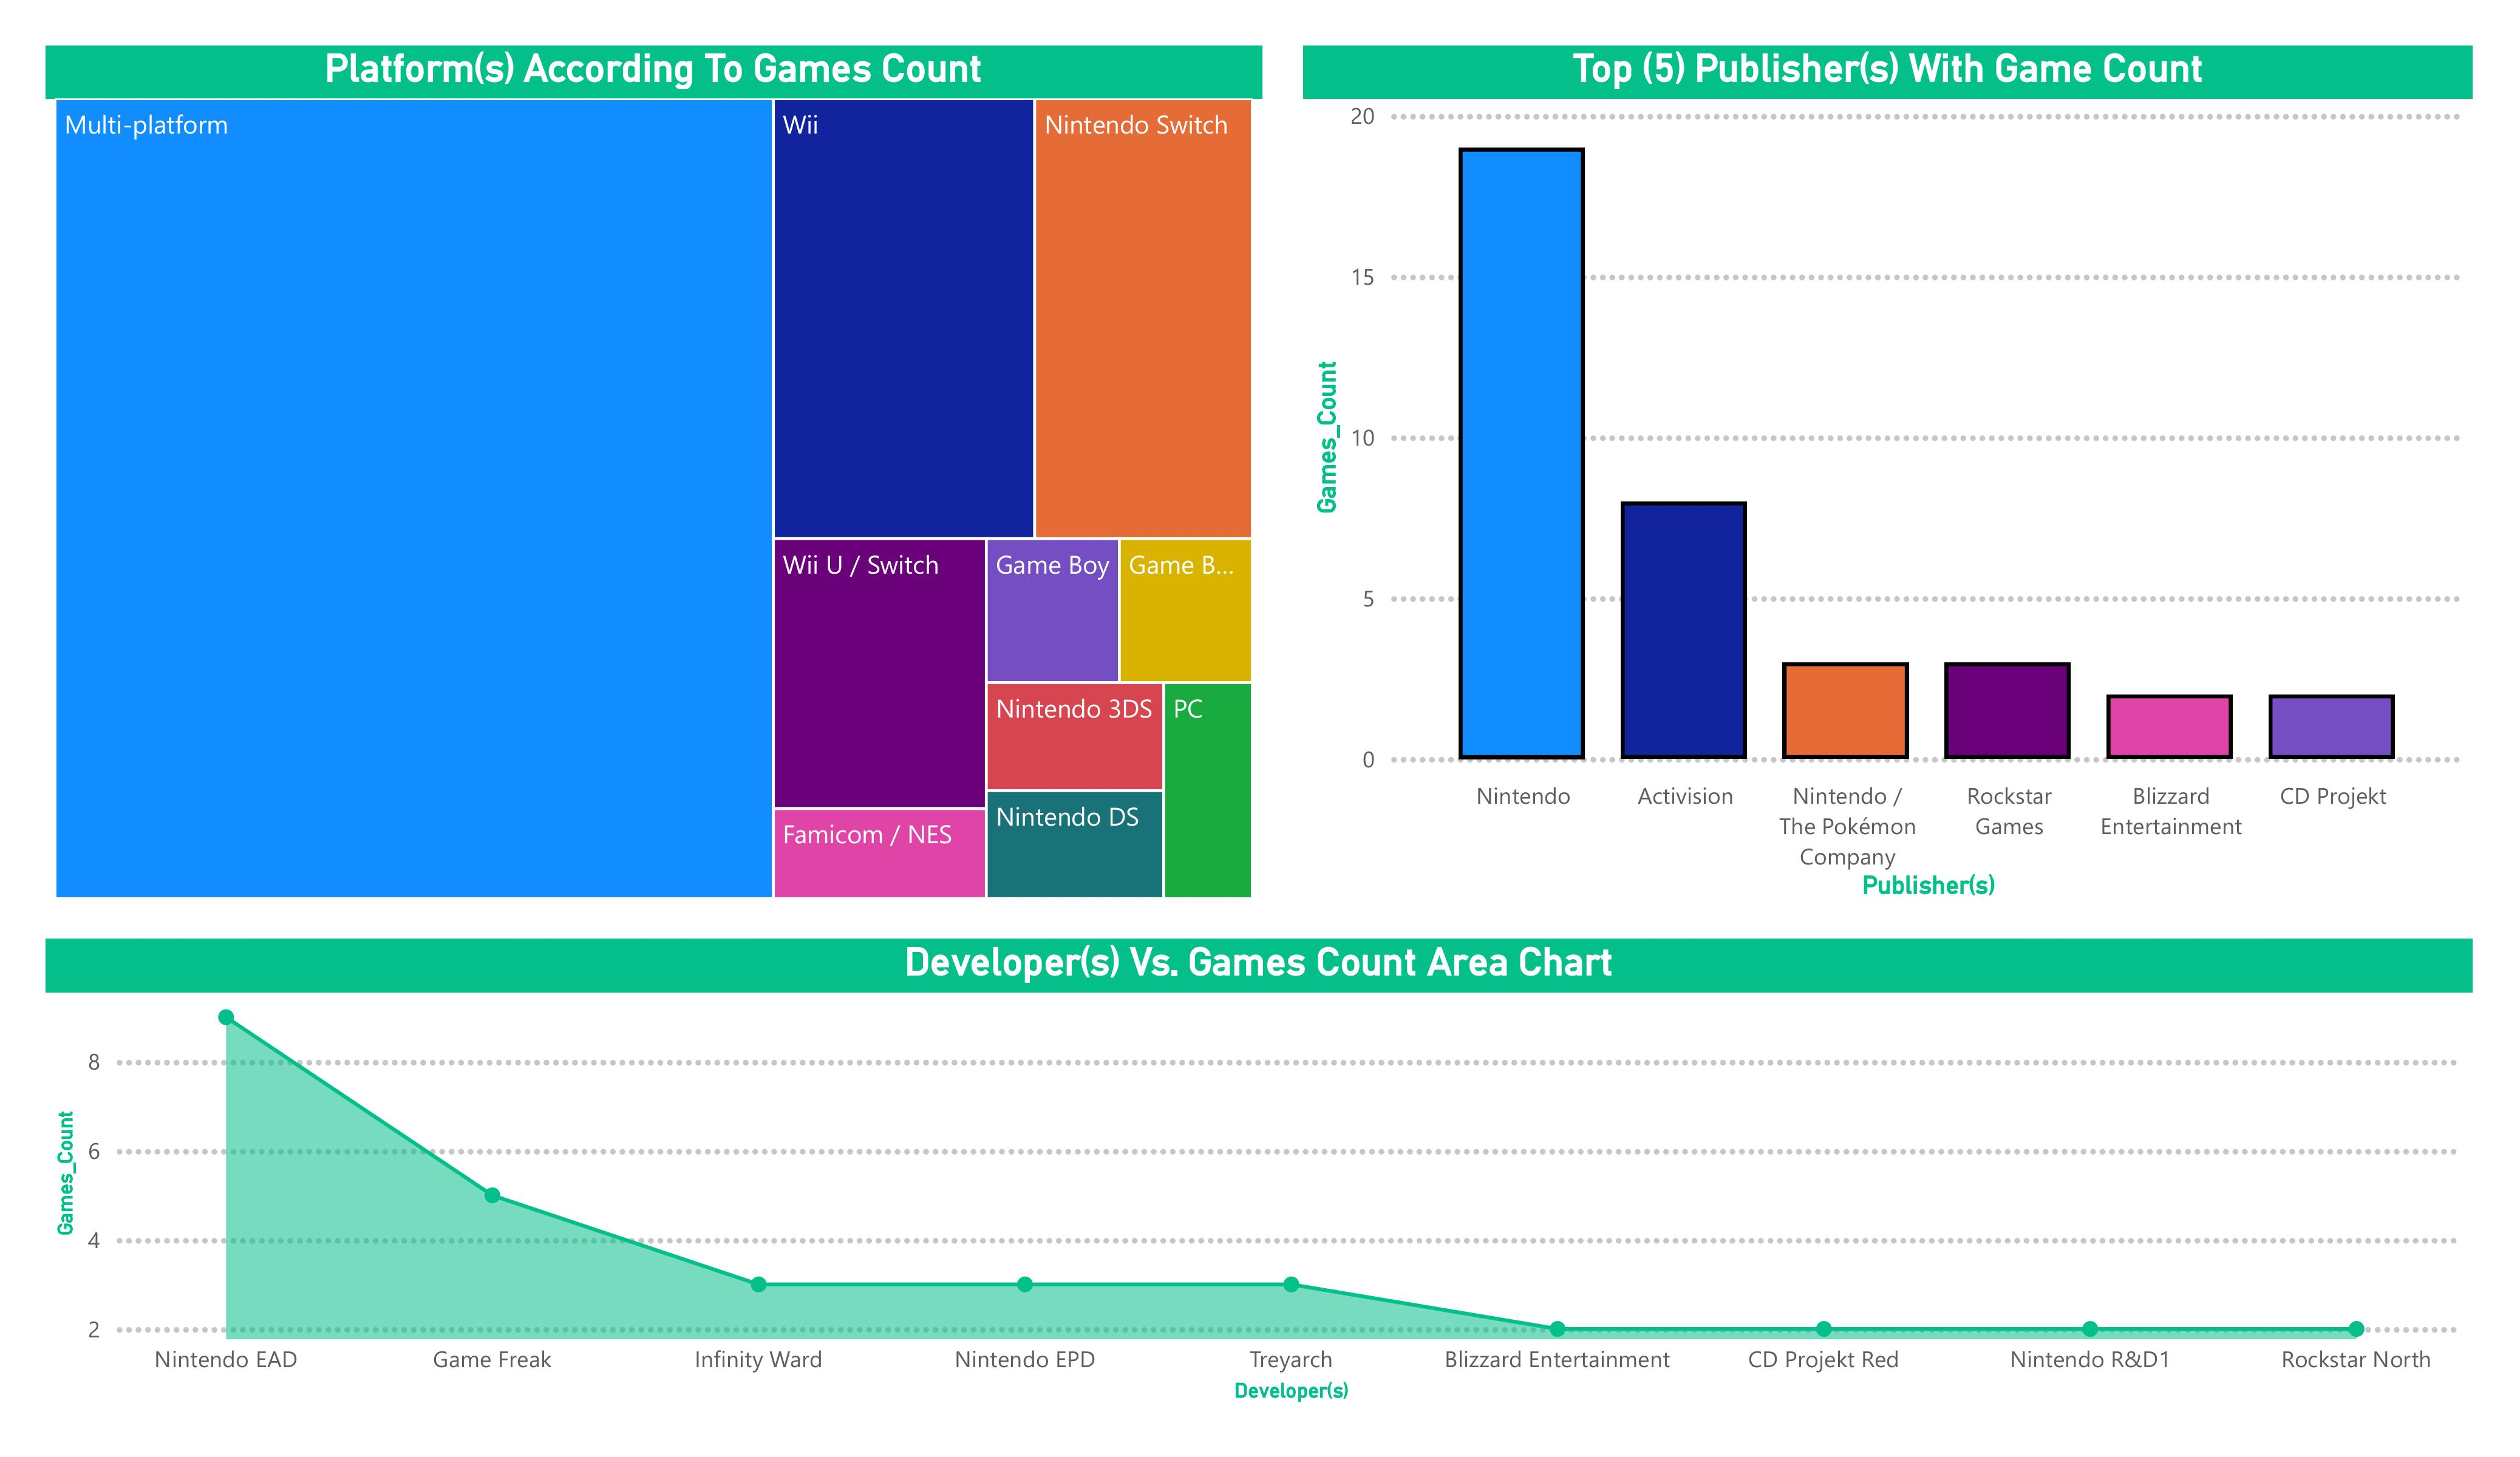

The page's visual inventory and layout, read from the dashboard file:
{"tool":"powerbi","page":{"name":"Dashboard_2","canvas":[1280,720],"ordinal":1},"visuals":[{"type":"columnChart","title":"Top (5) Publisher(s) With Game Count","fields":{"Category":["Best_Selling_Video_Games.Publisher(s)"],"Y":["Best_Selling_Video_Games.Games_Count"],"Series":["Best_Selling_Video_Games.Publisher(s)"]},"box":[662.7,0,616.7,454.7],"z":0},{"type":"treemap","title":"Platform(s) According To Games Count","fields":{"Group":["Best_Selling_Video_Games.Platform(s)"],"Values":["Best_Selling_Video_Games.Games_Count"]},"box":[0,0,640.6,454.7],"z":1000},{"type":"areaChart","title":"Developer(s) Vs. Games Count Area Chart","fields":{"Category":["Best_Selling_Video_Games.Developer(s)"],"Y":["Best_Selling_Video_Games.Games_Count"]},"box":[0,471.3,1279.4,248.5],"z":2000}]}

Visuals, with their boxes in screenshot pixels (x1, y1, x2, y2):
"Top (5) Publisher(s) With Game Count" columnChart: 1303, 46, 2473, 908
"Platform(s) According To Games Count" treemap: 46, 46, 1261, 908
"Developer(s) Vs. Games Count Area Chart" areaChart: 46, 940, 2473, 1411
